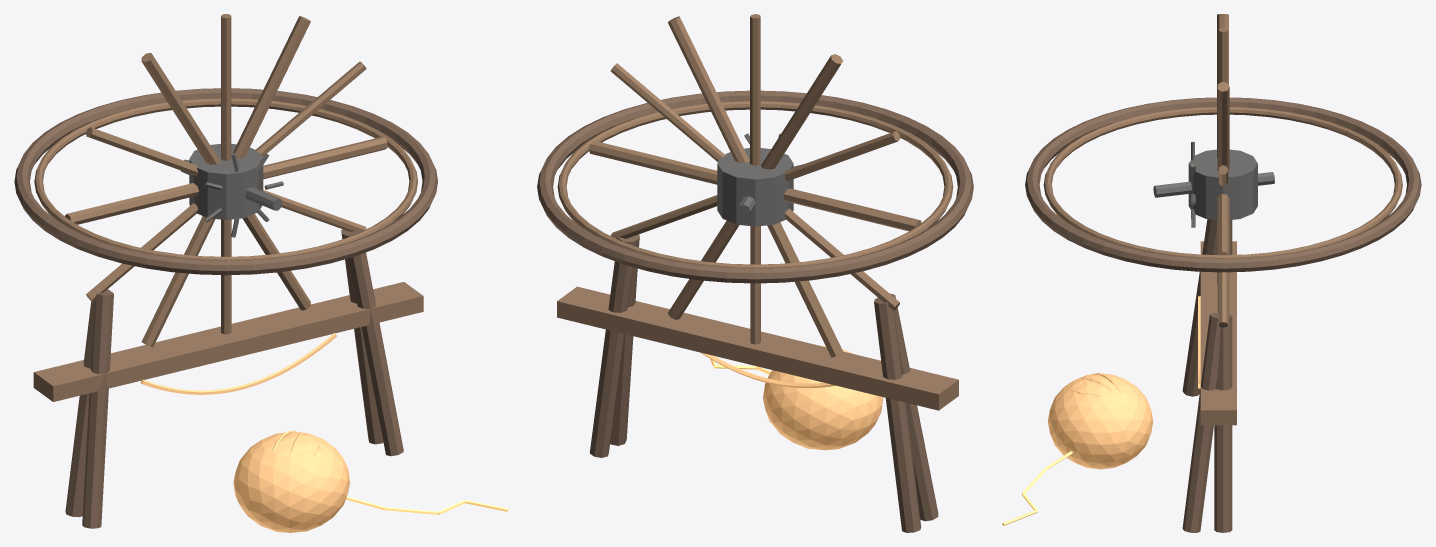
Rendered from Midgard_Norns_Fate_Wheel_V1_YUP.glb.
The picture shows the model from 3 angles, left to right: view 1: azimuth 30°, elevation 25°; view 2: azimuth 150°, elevation 25°; view 3: azimuth 270°, elevation 25°; orthographic projection. The views are drawn at different scales.
Parts seen in each view (by area): view 1: Wheel_Rim_0, Bench, Yarn_Core, Wheel_Rim_1, Leg_-1.8_b, Hub, Leg_1.8_b, Leg_-1.8_a, Spoke_2, Spoke_6, Spoke_0, Spoke_4 (+9 smaller); view 2: Wheel_Rim_0, Bench, Yarn_Core, Wheel_Rim_1, Hub, Leg_-1.8_a, Leg_1.8_a, Leg_-1.8_b, Spoke_2, Spoke_6, Spoke_0, Spoke_4 (+9 smaller); view 3: Wheel_Rim_0, Yarn_Core, Wheel_Rim_1, Hub, Bench, Leg_1.8_b, Leg_1.8_a, Leg_-1.8_b, Spoke_2, Spoke_0, Spindle, Spoke_11 (+1 smaller).
Boxes of the visible parts, bbox=[...] form: Wheel_Rim_0: bbox=[14, 88, 437, 275]; Bench: bbox=[33, 282, 423, 401]; Yarn_Core: bbox=[233, 432, 350, 532]; Wheel_Rim_1: bbox=[34, 98, 417, 260]; Leg_-1.8_b: bbox=[82, 291, 113, 528]; Hub: bbox=[189, 143, 263, 219]; Leg_1.8_b: bbox=[344, 229, 403, 456]; Leg_-1.8_a: bbox=[65, 289, 110, 517]; Spoke_2: bbox=[232, 16, 310, 158]; Spoke_6: bbox=[65, 183, 198, 224]; Spoke_0: bbox=[263, 136, 387, 179]; Spoke_4: bbox=[141, 53, 220, 164]; Wheel_Rim_0: bbox=[537, 90, 973, 283]; Bench: bbox=[557, 286, 958, 410]; Yarn_Core: bbox=[763, 346, 883, 450]; Wheel_Rim_1: bbox=[557, 101, 953, 268]; Hub: bbox=[717, 148, 793, 226]; Leg_-1.8_a: bbox=[874, 298, 921, 532]; Leg_1.8_a: bbox=[589, 236, 636, 457]; Leg_-1.8_b: bbox=[877, 293, 938, 521]; Spoke_2: bbox=[668, 16, 749, 162]; Spoke_6: bbox=[784, 188, 921, 231]; Spoke_0: bbox=[589, 140, 717, 184]; Spoke_4: bbox=[761, 54, 842, 169]; Wheel_Rim_0: bbox=[1025, 97, 1421, 272]; Yarn_Core: bbox=[1048, 373, 1153, 469]; Wheel_Rim_1: bbox=[1043, 107, 1402, 258]; Hub: bbox=[1188, 149, 1257, 220]; Bench: bbox=[1200, 241, 1236, 425]; Leg_1.8_b: bbox=[1182, 313, 1220, 532]; Leg_1.8_a: bbox=[1214, 313, 1232, 532]; Leg_-1.8_b: bbox=[1182, 219, 1216, 396]; Spoke_2: bbox=[1217, 81, 1229, 170]; Spoke_0: bbox=[1217, 194, 1229, 255]; Spindle: bbox=[1153, 172, 1274, 197]; Spoke_11: bbox=[1219, 272, 1228, 327].
Bounding box in the file's own units: 4.4 × 5.26 × 4.61.
